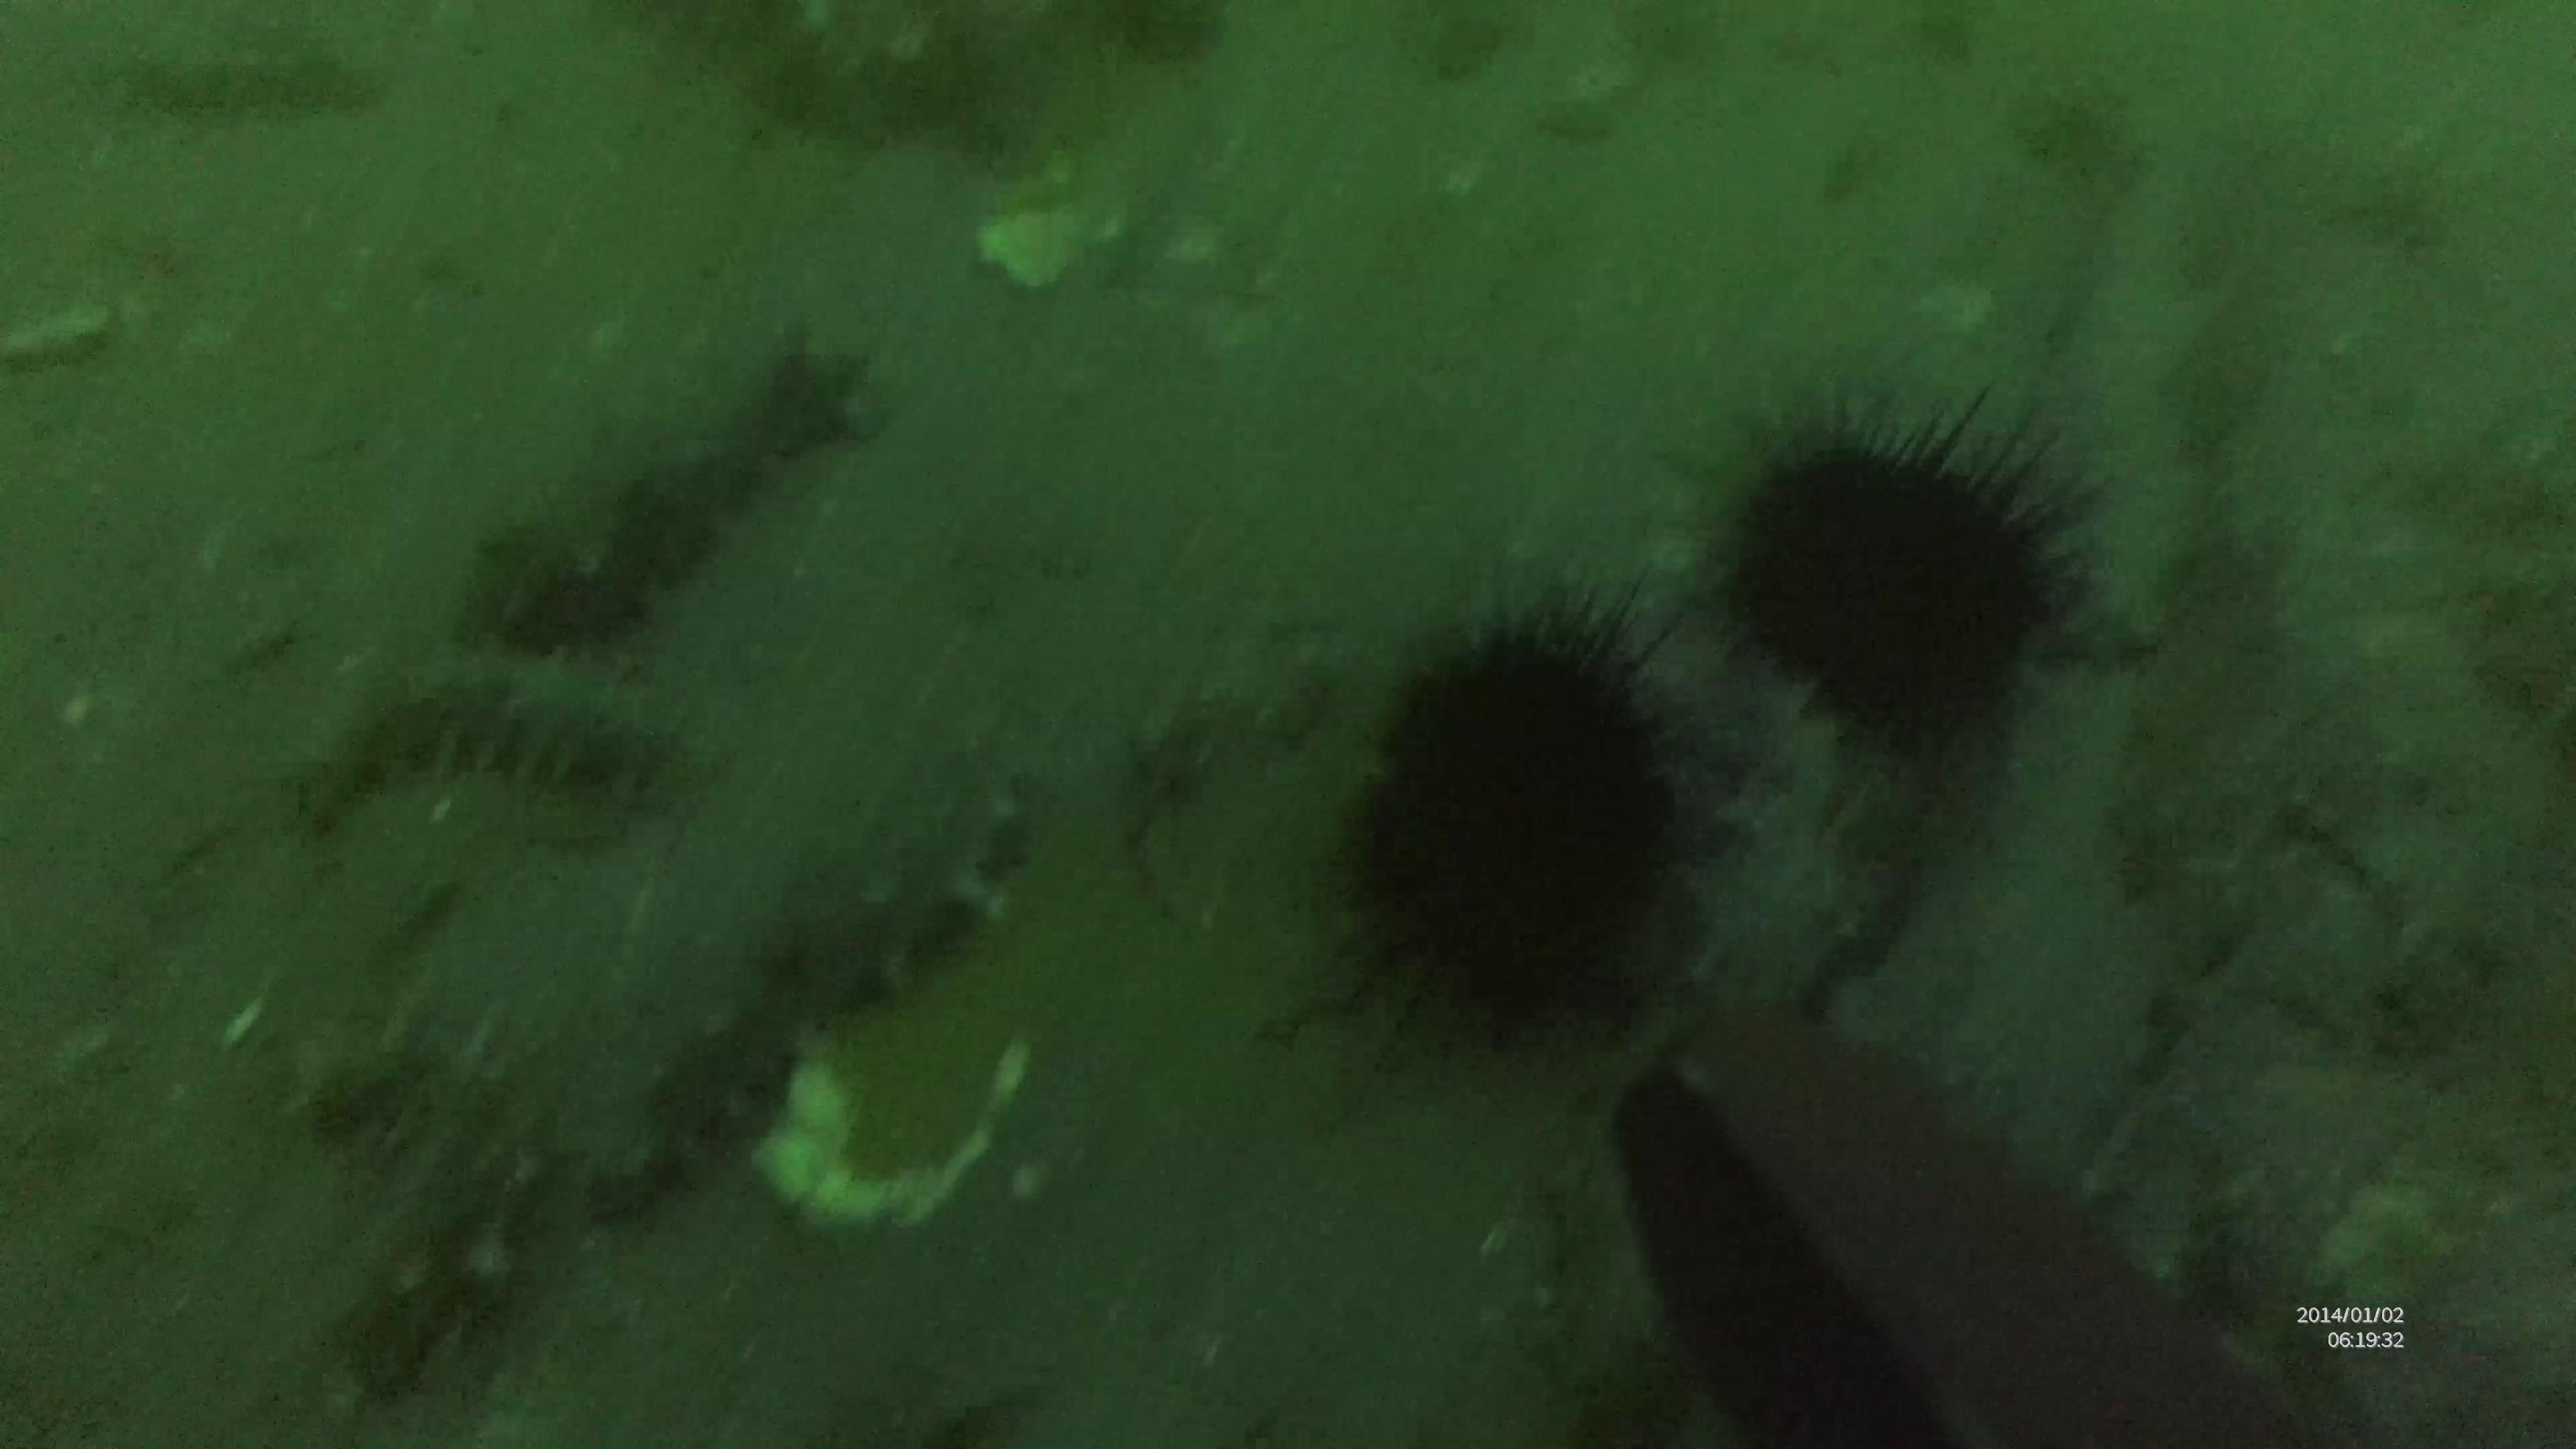echinus: (1313, 579, 1704, 1051), (1700, 386, 2102, 768)
holothurian: (566, 750, 1031, 1228), (465, 322, 879, 655), (304, 994, 579, 1407), (294, 651, 688, 830)
